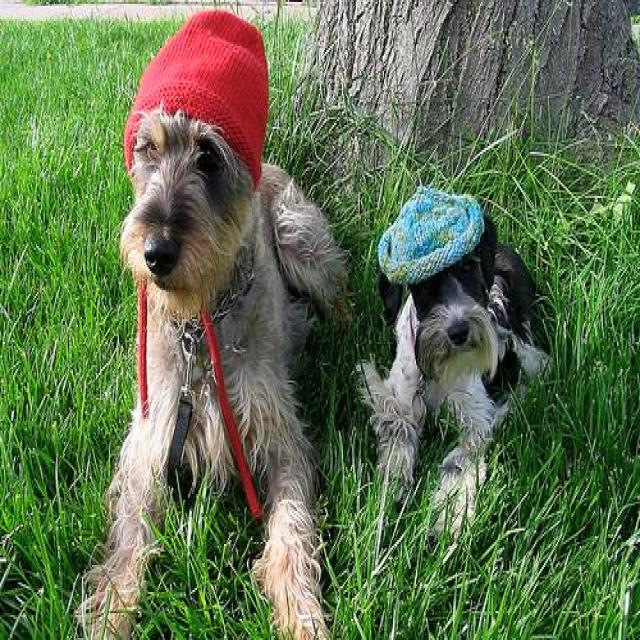standard_schnauzer: (72, 10, 344, 638), (352, 190, 557, 544)
